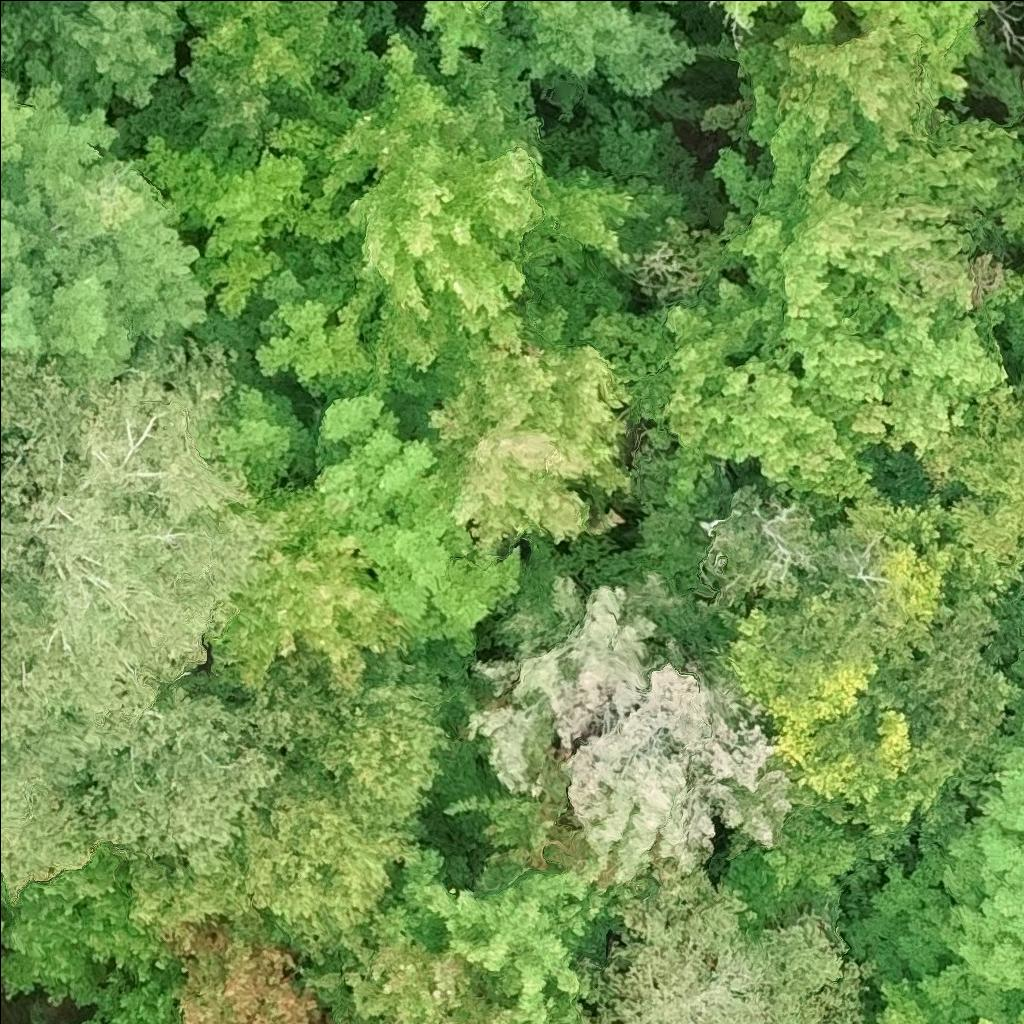crown: (0, 337, 292, 900), (655, 80, 1023, 496), (296, 29, 653, 414), (442, 564, 794, 888), (127, 649, 455, 975), (838, 603, 1023, 1023), (0, 52, 210, 379), (309, 388, 522, 656), (409, 333, 633, 552), (574, 861, 876, 1023), (202, 480, 420, 695), (383, 846, 618, 1023), (132, 131, 319, 322), (732, 3, 969, 152), (134, 304, 313, 494), (417, 0, 704, 102), (0, 843, 176, 1009), (167, 0, 399, 104), (248, 221, 374, 406), (299, 929, 527, 1023), (917, 377, 1023, 569), (20, 0, 189, 114), (107, 60, 279, 162), (166, 921, 330, 1023), (260, 84, 356, 167), (0, 198, 46, 362), (876, 0, 990, 62), (714, 0, 880, 37), (79, 967, 177, 1023), (0, 72, 38, 191), (0, 0, 45, 93), (865, 970, 939, 1023), (995, 174, 1023, 261), (1002, 267, 1023, 329), (374, 1022, 389, 1023), (1023, 140, 1023, 141)
